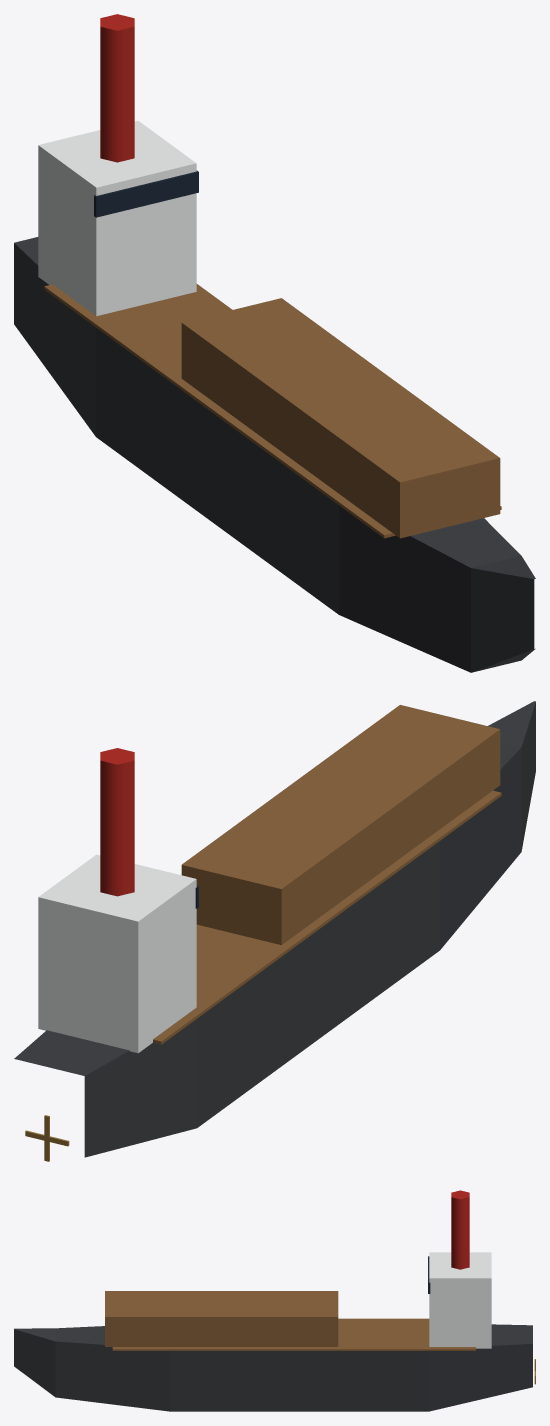
The model's file is veh_naval_merchant_a05_lod2.glb.
3 views of the same model, one above another, from view 1: azimuth 30°, elevation 25°; view 2: azimuth 150°, elevation 25°; view 3: azimuth 270°, elevation 25° (orthographic). The views are drawn at different scales.
Parts seen in each view (by area): view 1: body; view 2: body; view 3: body.
Part boxes in pixels (box(x1,y1,x2,y2)): body: box(14, 14, 535, 672); body: box(14, 701, 535, 1157); body: box(14, 1190, 532, 1411).
Bounding box in the file's own units: 3.07 × 9.52 × 22.13.
